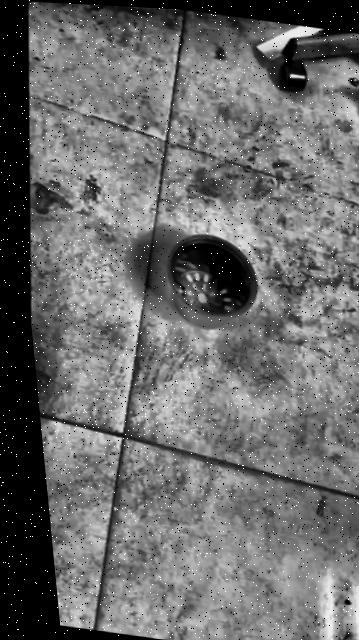pot: (157, 228, 265, 334)
